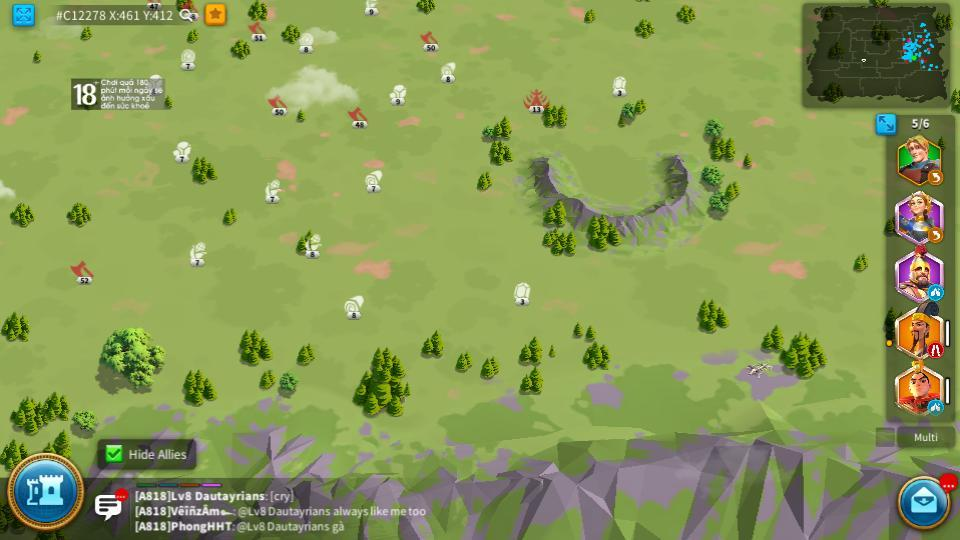gem-z-out: (513, 281, 531, 303)
march_attacking: (928, 345, 942, 357)
march_idle: (927, 402, 944, 414), (929, 284, 942, 297)
march_returning: (927, 170, 944, 185), (926, 229, 943, 242)
